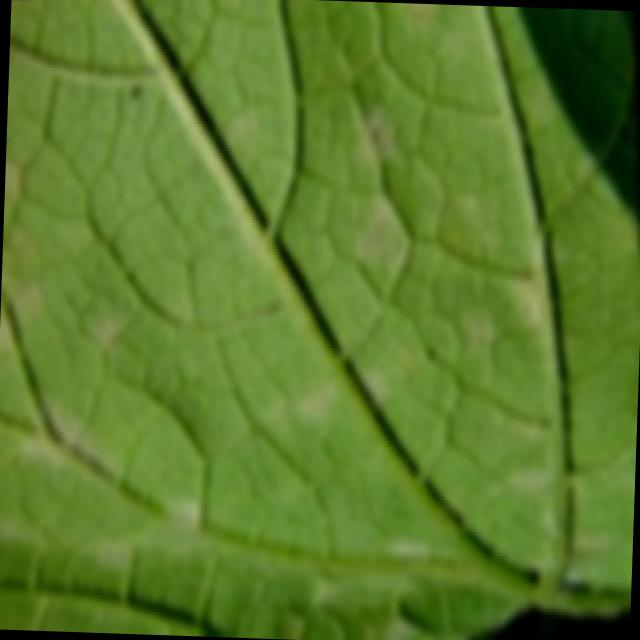Powdery_Mildew: (159, 0, 640, 539), (0, 120, 423, 640)
